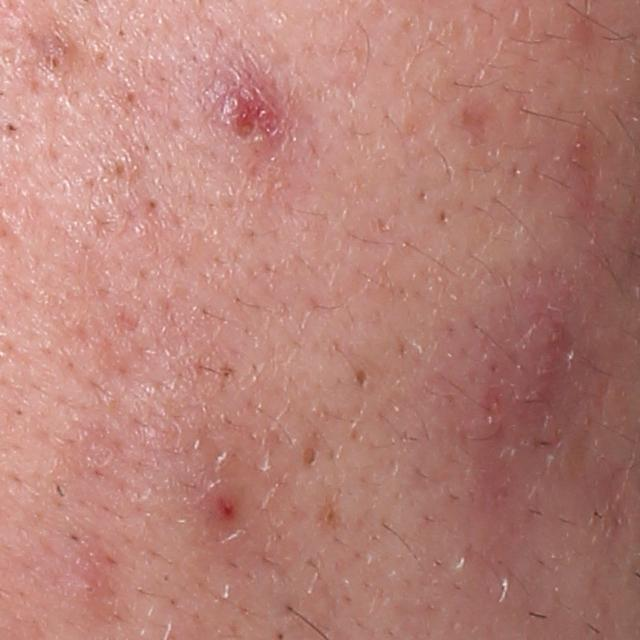comedo: (298, 440, 321, 471), (353, 368, 373, 389), (1, 119, 19, 137)
papule: (208, 81, 276, 140), (211, 485, 244, 528)
